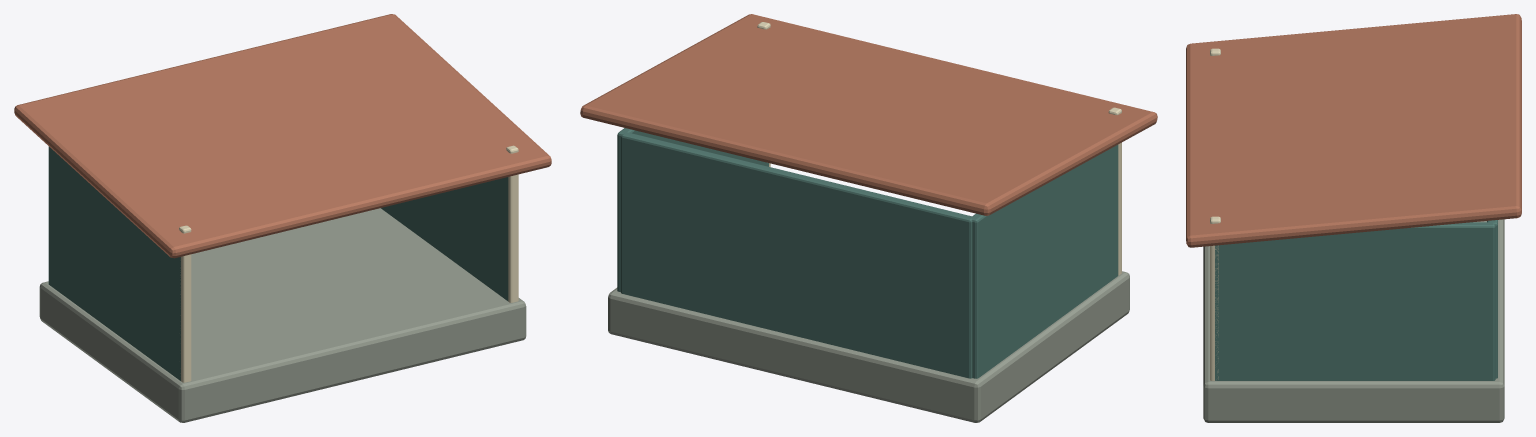
The model's file is SM_FreightShed.fbx.
3 renders of one model, left to right at view 1: azimuth 30°, elevation 25°; view 2: azimuth 150°, elevation 25°; view 3: azimuth 270°, elevation 25°, orthographic. The views are drawn at different scales.
Parts seen in each view (by area): view 1: SM_FreightShed; view 2: SM_FreightShed; view 3: SM_FreightShed.
Part boxes in pixels (box(x1,y1,x2,y2)): SM_FreightShed: box(14, 14, 551, 422); SM_FreightShed: box(580, 14, 1157, 422); SM_FreightShed: box(1186, 14, 1521, 422).
Bounding box in the file's own units: 770 × 558 × 414.
